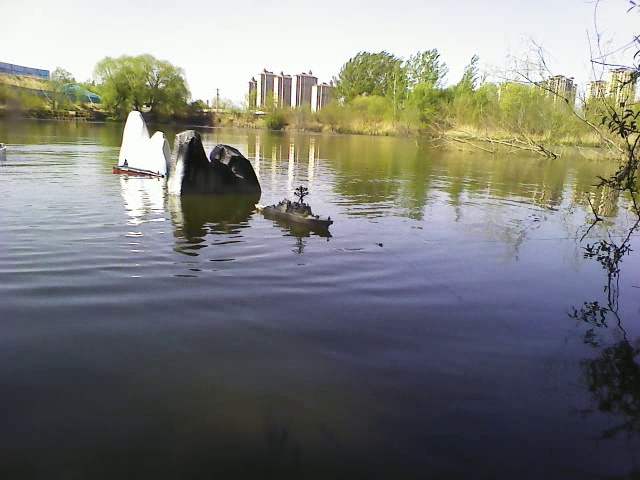iceberg: (107, 100, 175, 170)
rock: (168, 120, 258, 197)
submarine: (113, 160, 165, 177)
warship: (258, 197, 340, 232)
